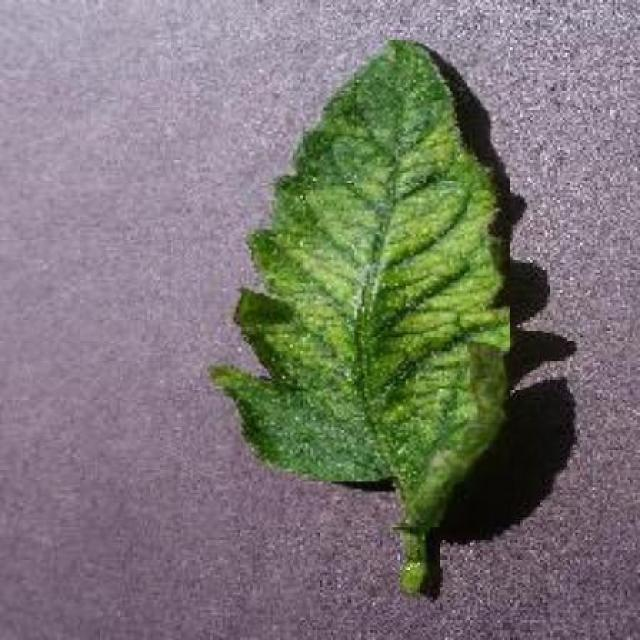Mosaic Virus: (200, 40, 510, 527)
